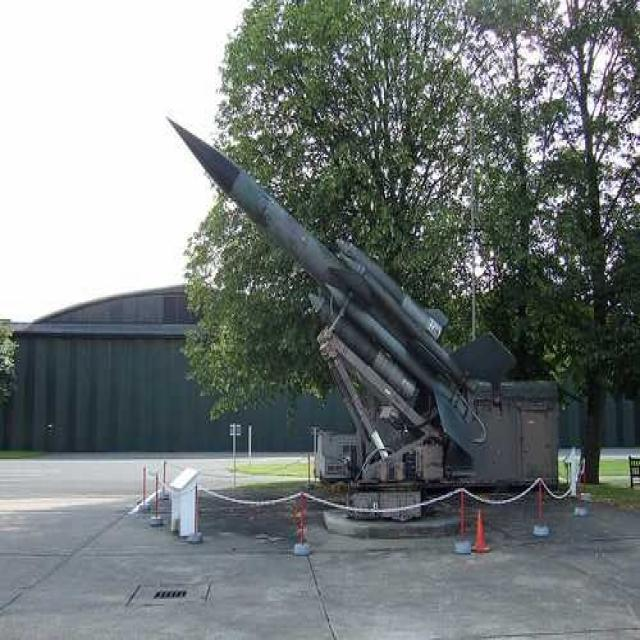missile: (162, 111, 504, 461)
